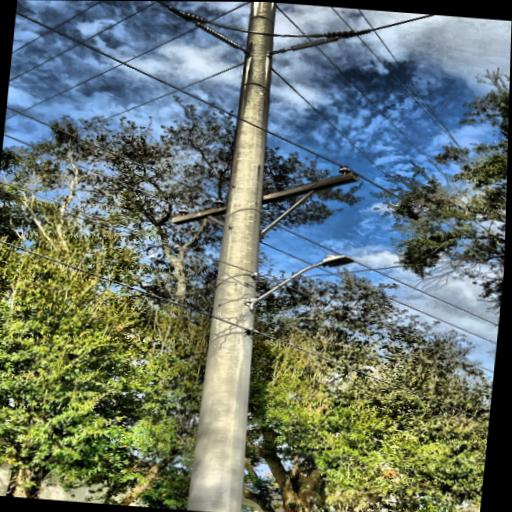pole: (171, 1, 307, 512)
street light: (243, 244, 363, 322)
